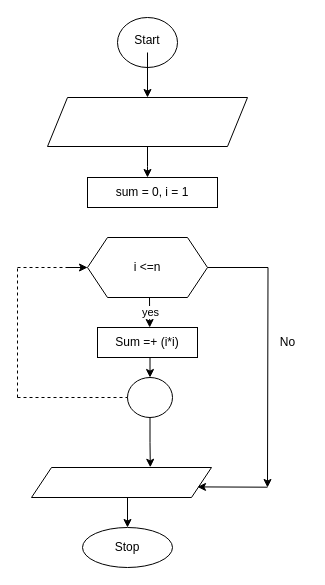
Image size: 325x585. Some labels were removed from this diagram. Each missing label, with the centre of its shape:
"Sum of n number of integers" "How many integers" Input n: point 147,121
"Sum of squares of n",sum: point 121,482
i= i+1: point 149,397
